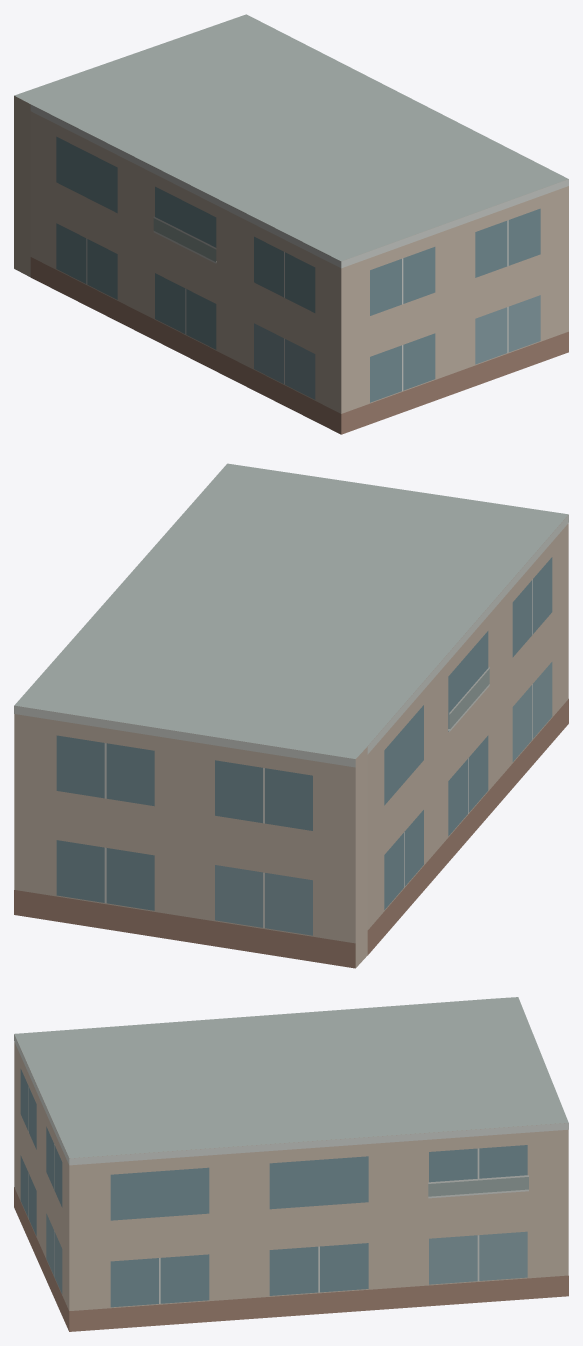
Rendered from survey-upis-32878171.glb.
3 renders of one model, top to bottom at view 1: azimuth 30°, elevation 25°; view 2: azimuth 150°, elevation 25°; view 3: azimuth 270°, elevation 25°, orthographic. The views are drawn at different scales.
Parts seen in each view (by area): view 1: survey-upis-32878171.tmp; view 2: survey-upis-32878171.tmp; view 3: survey-upis-32878171.tmp.
Boxes of the visible parts, box(x1,y1,x2,y2) form: survey-upis-32878171.tmp: box(14, 14, 568, 434); survey-upis-32878171.tmp: box(14, 463, 568, 968); survey-upis-32878171.tmp: box(14, 997, 568, 1331).
Bounding box in the file's own units: 12.19 × 6.1 × 17.69.
